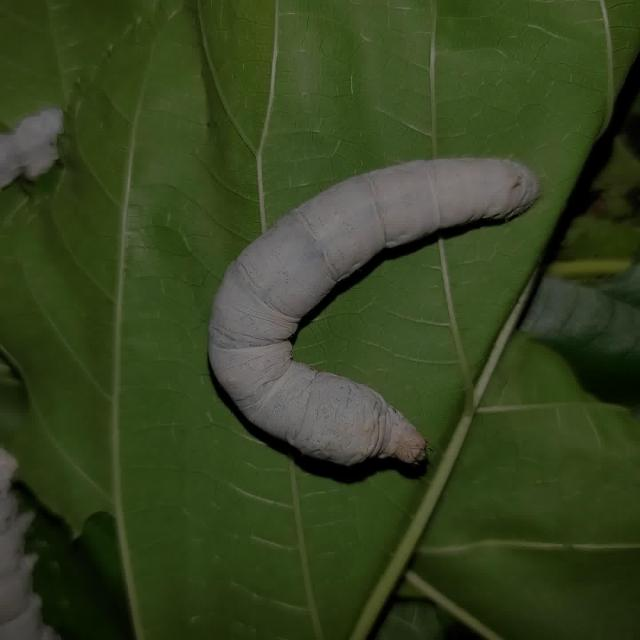Healthy: (194, 129, 544, 491)
